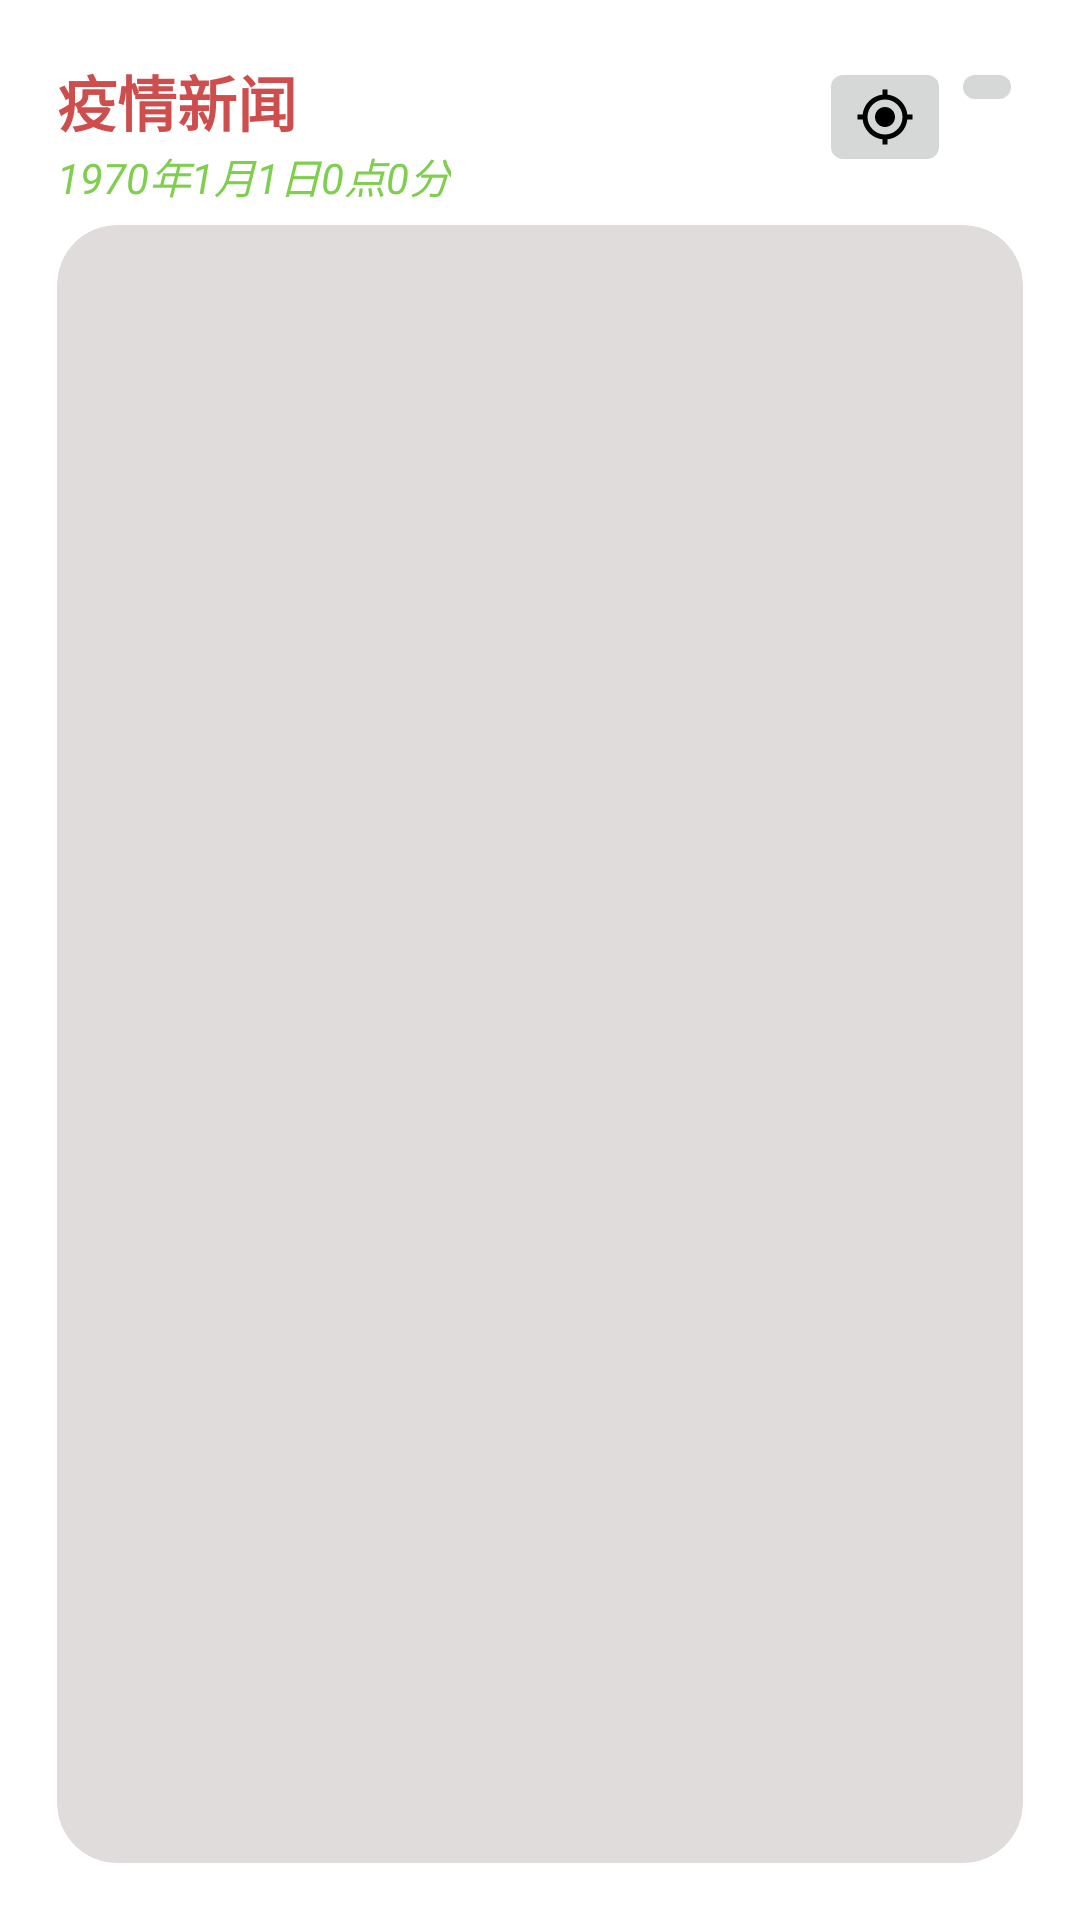

Named icons in this screenshot (1080x1920) and their centers, point (x, y):
location: point (885, 117)
